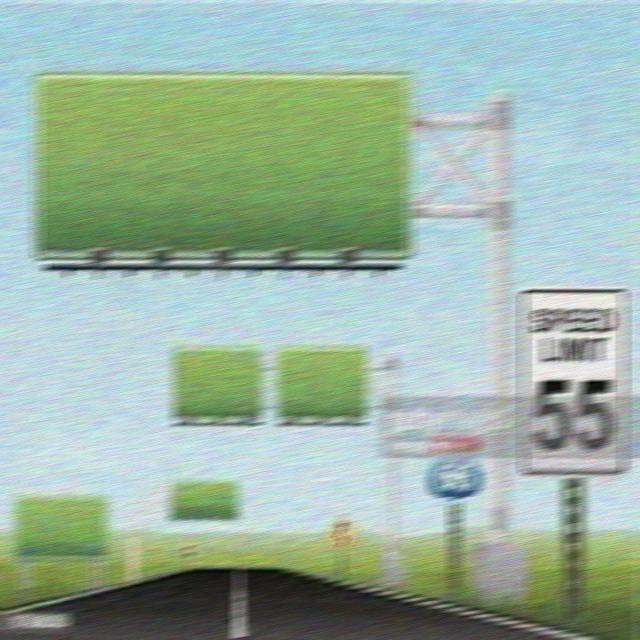speedLimit55: (517, 289, 636, 465)
